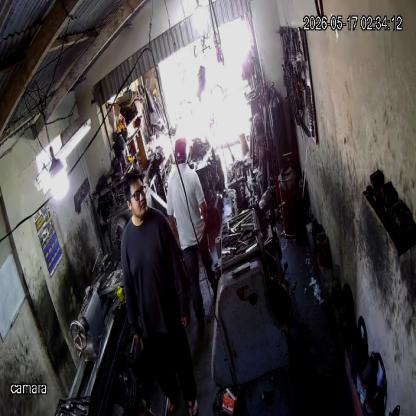lentes: (128, 184, 149, 200)
